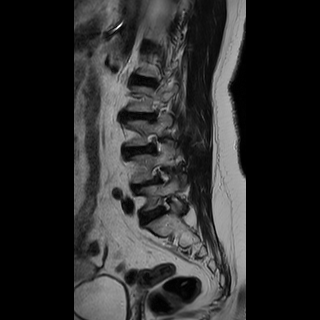LFS2: (147, 158, 173, 190), (146, 129, 167, 159)
